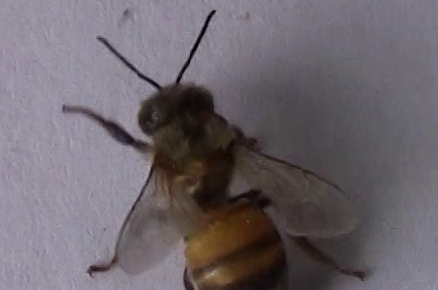Healthy: (54, 15, 380, 290)
